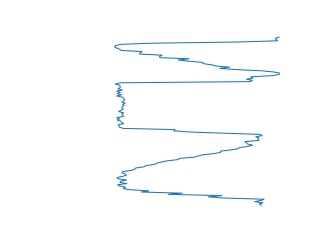distributaryChannelFill: (112, 73, 265, 142)
mouthBar: (111, 33, 282, 78)
underwaterDistributaryChannel: (114, 138, 268, 207)
